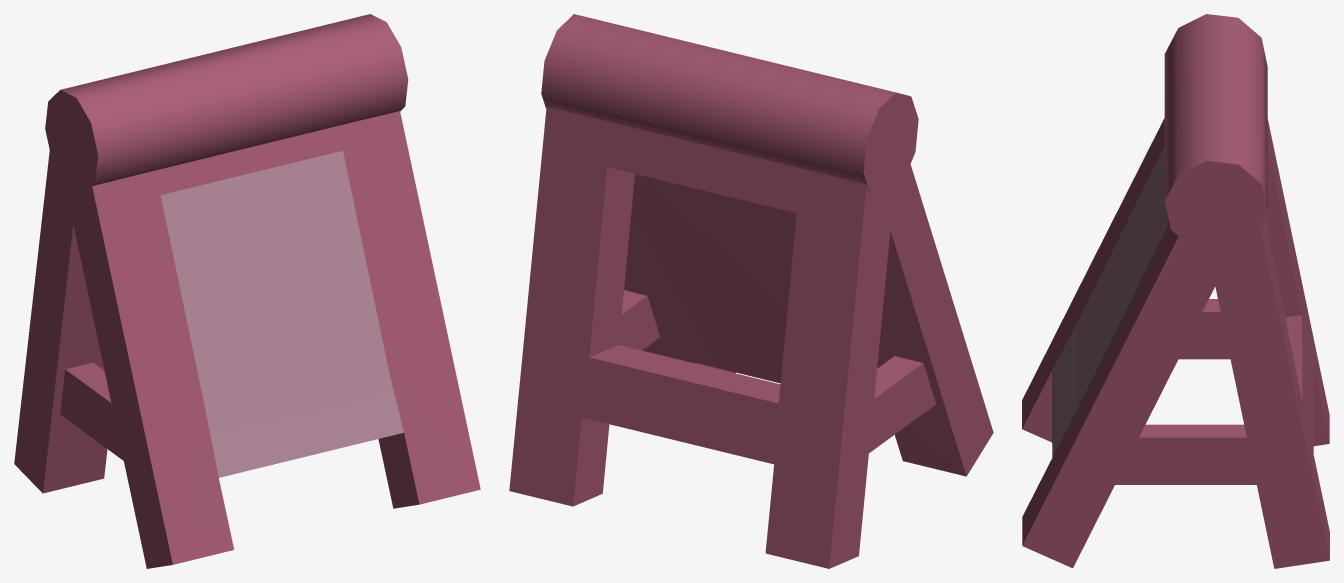
Rendered from platemenu_01.fbx.
3 renders of one model, left to right at view 1: azimuth 30°, elevation 25°; view 2: azimuth 150°, elevation 25°; view 3: azimuth 270°, elevation 25°, orthographic. The views are drawn at different scales.
Visible parts, largest first — view 1: platemenu_01; view 2: platemenu_01; view 3: platemenu_01.
Boxes of the visible parts, x1,y1,x2,y2 form: platemenu_01: (14, 14, 480, 568); platemenu_01: (509, 14, 993, 568); platemenu_01: (1022, 14, 1329, 568).
Size of the model in its own units: 80.79 by 105 by 71.57.
